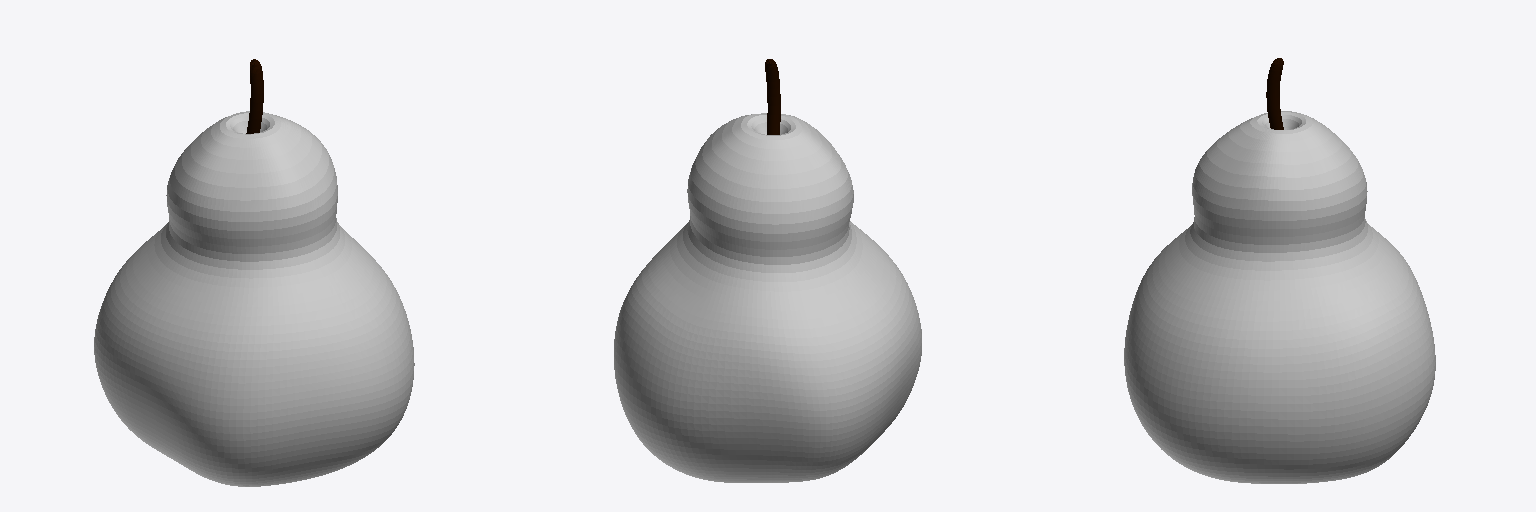
The model's file is Pear.obj.
3 views of the same model, side by side, from view 1: azimuth 30°, elevation 25°; view 2: azimuth 150°, elevation 25°; view 3: azimuth 270°, elevation 25° (orthographic).
Visible parts, largest first — view 1: Sphere, Cylinder; view 2: Sphere, Cylinder; view 3: Sphere, Cylinder.
Part boxes in pixels (left/top/right/bottom): Sphere: left=94, top=111, right=414, bottom=486; Cylinder: left=246, top=59, right=263, bottom=133; Sphere: left=614, top=113, right=921, bottom=482; Cylinder: left=765, top=59, right=780, bottom=134; Sphere: left=1124, top=111, right=1435, bottom=483; Cylinder: left=1266, top=58, right=1283, bottom=129.
Size of the model in its own units: 2.55 by 3.67 by 2.62.